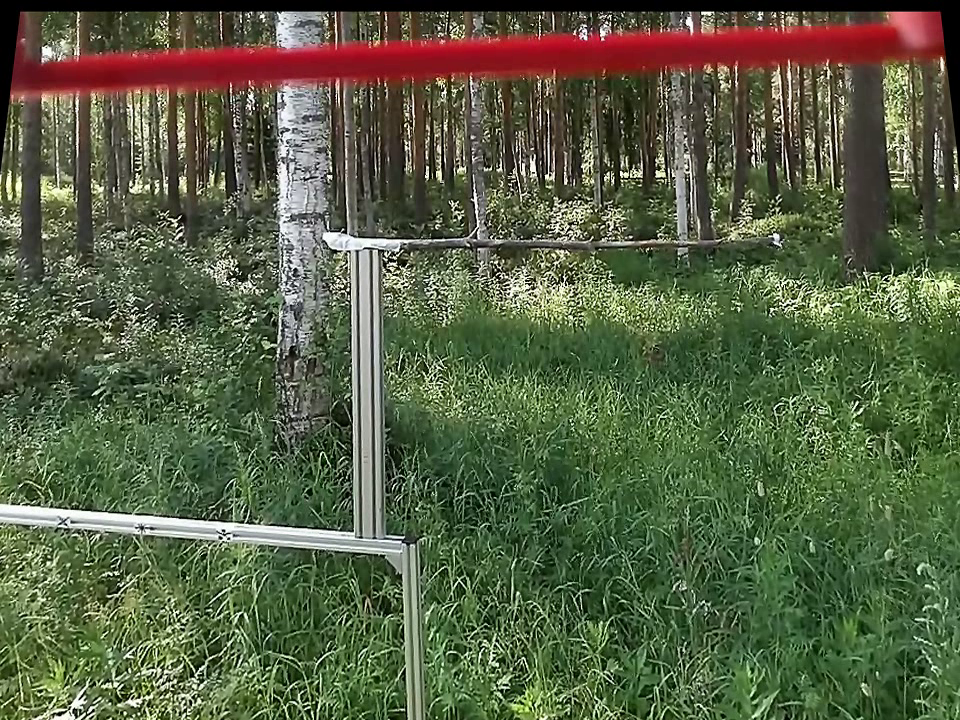aluminum_frame: (1, 499, 422, 561), (346, 251, 391, 537), (396, 534, 431, 718)
branch: (414, 228, 720, 260)
